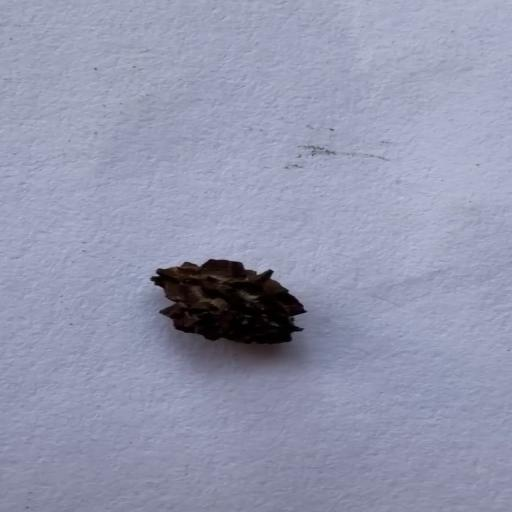papaya_seed: (149, 257, 317, 346)
